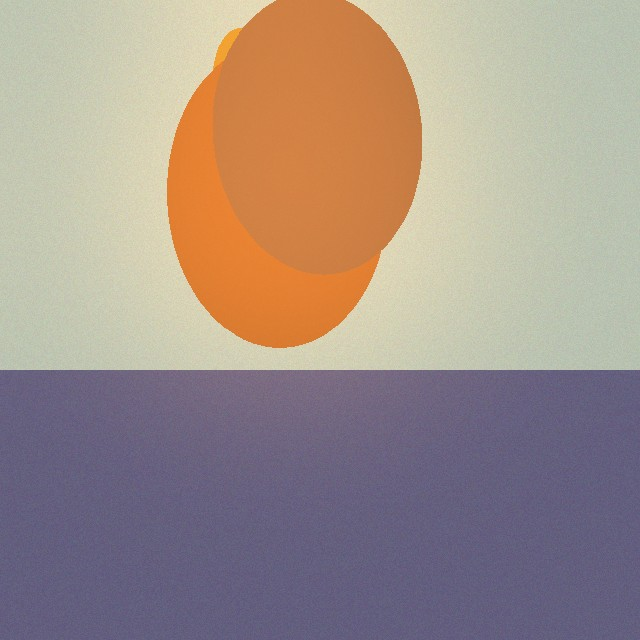fire: (158, 136, 416, 248)
